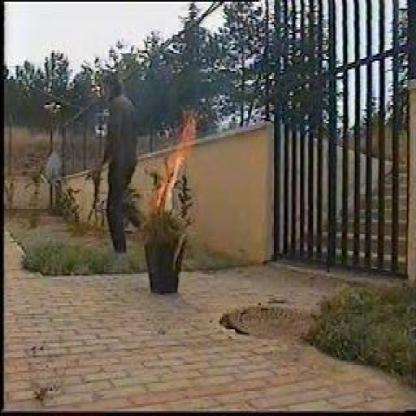foggia-v2-map80-epoch100 - v1 4323: (152, 140, 186, 214)
